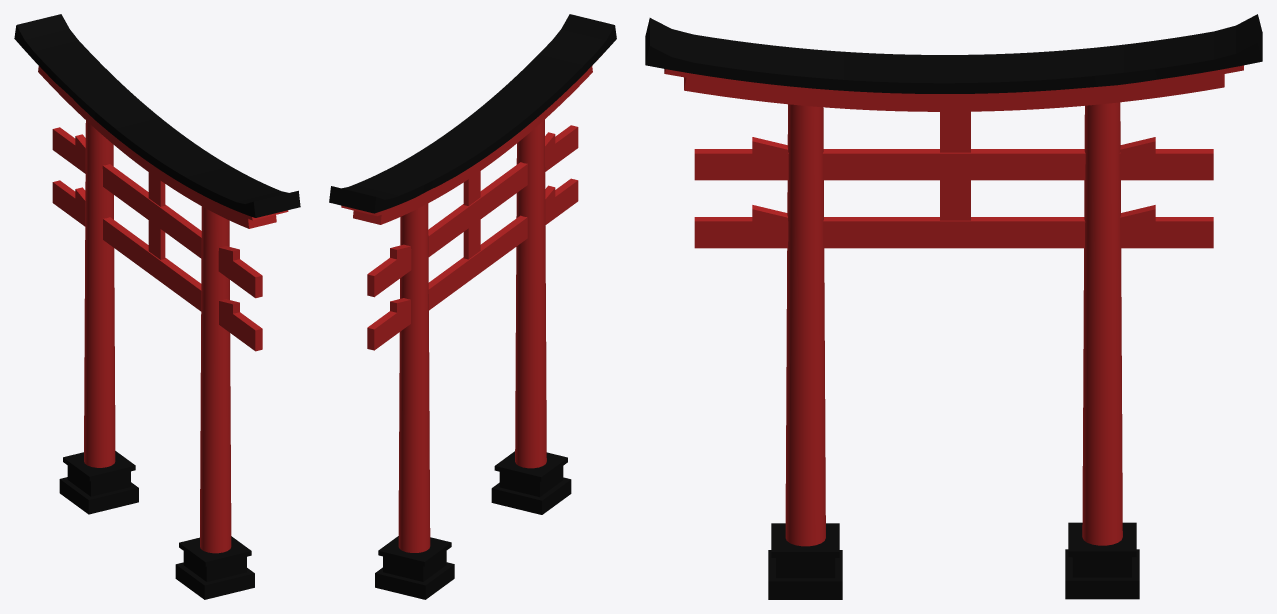
File: ToriWithC.fbx
The picture shows the model from 3 angles, left to right: view 1: azimuth 30°, elevation 25°; view 2: azimuth 150°, elevation 25°; view 3: azimuth 270°, elevation 25°; orthographic projection. The views are drawn at different scales.
Visible parts, largest first — view 1: Tori; view 2: Tori; view 3: Tori.
Part boxes in pixels (bbox=[...]): Tori: bbox=[14, 14, 300, 599]; Tori: bbox=[329, 14, 616, 599]; Tori: bbox=[645, 14, 1262, 599].
Size of what is drawn, in the model's own units: 100 by 827 by 832.
